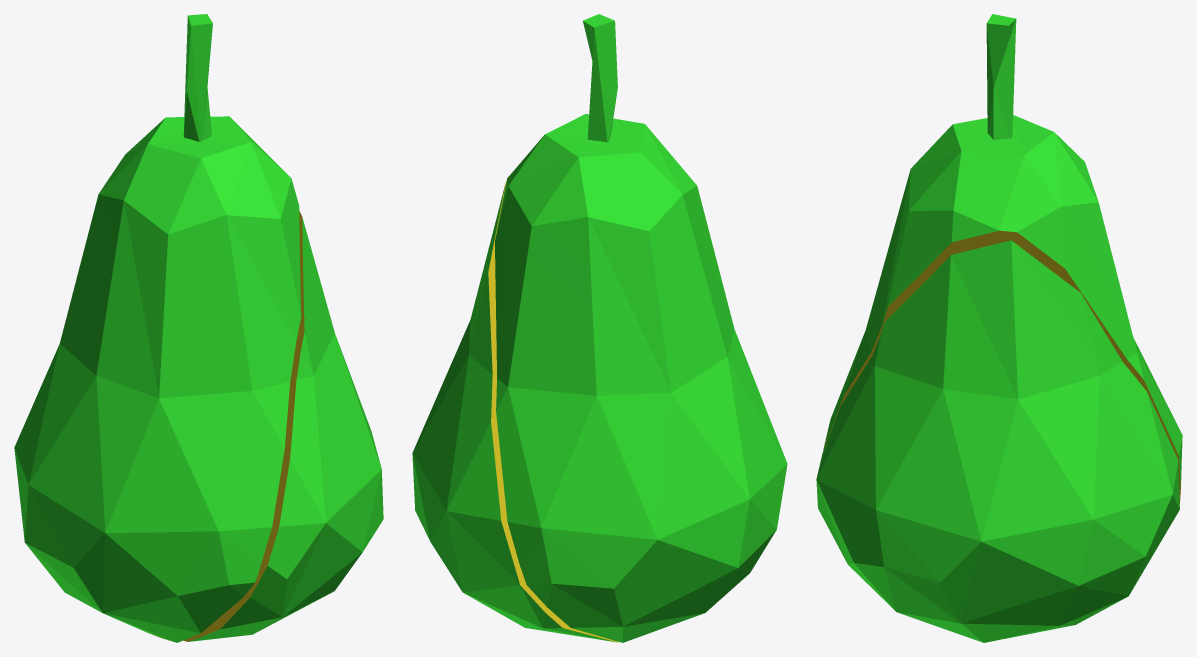
File: BrokenPear1.fbx
The picture shows the model from 3 angles, left to right: view 1: azimuth 30°, elevation 25°; view 2: azimuth 150°, elevation 25°; view 3: azimuth 270°, elevation 25°; orthographic projection.
Visible parts, largest first — view 1: Pear_cell.002, Pear_cell; view 2: Pear_cell.002, Pear_cell; view 3: Pear_cell, Pear_cell.002.
Boxes of the visible parts, bbox=[...] form: Pear_cell.002: bbox=[14, 14, 301, 642]; Pear_cell: bbox=[183, 211, 383, 641]; Pear_cell.002: bbox=[495, 14, 787, 642]; Pear_cell: bbox=[412, 181, 618, 642]; Pear_cell: bbox=[816, 240, 1179, 642]; Pear_cell.002: bbox=[823, 14, 1182, 504].
Size of the model in its own units: 10.69 by 18.84 by 10.51.
